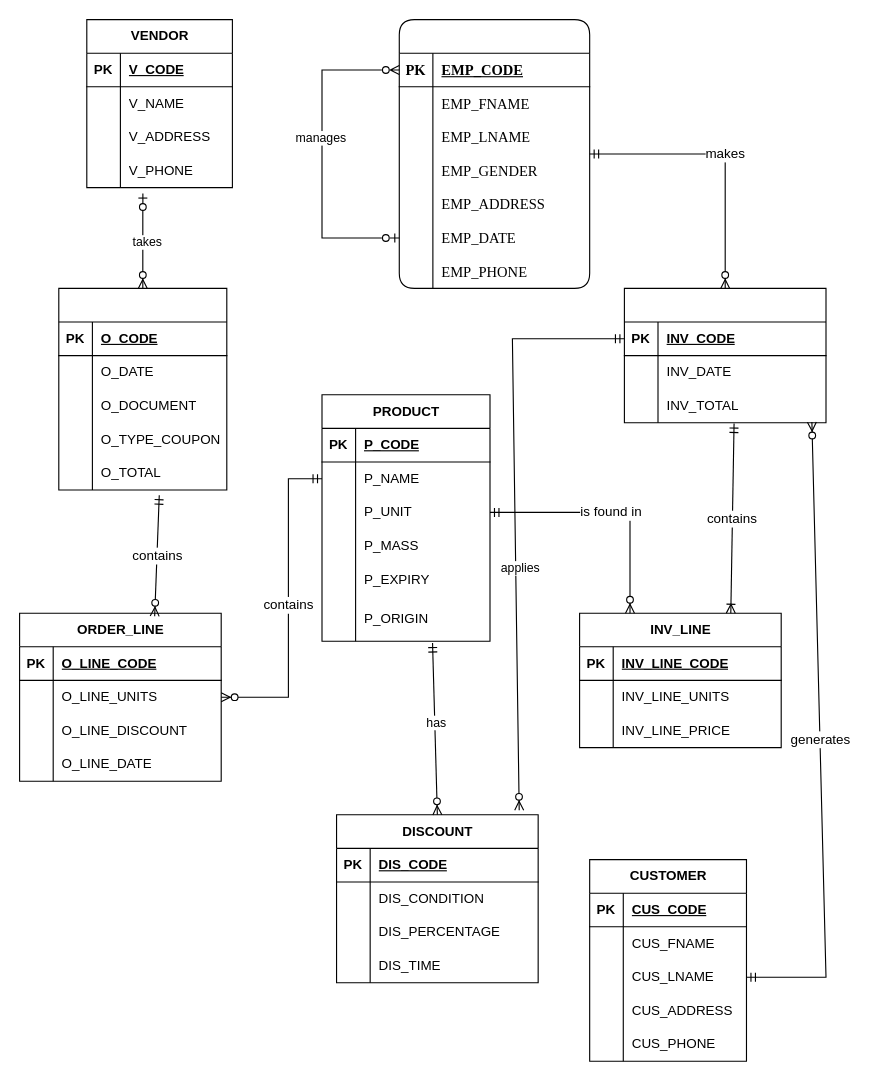
The diagram is 869 pixels wide and 1081 high, and some of its shapes have lost their labels. Here are the shapes that lost their labels. From the top down, the box of each, then its label:
(398, 18, 590, 288): EMPLOYEE
(623, 287, 826, 423): INVOICE
(58, 287, 227, 490): ORDER
